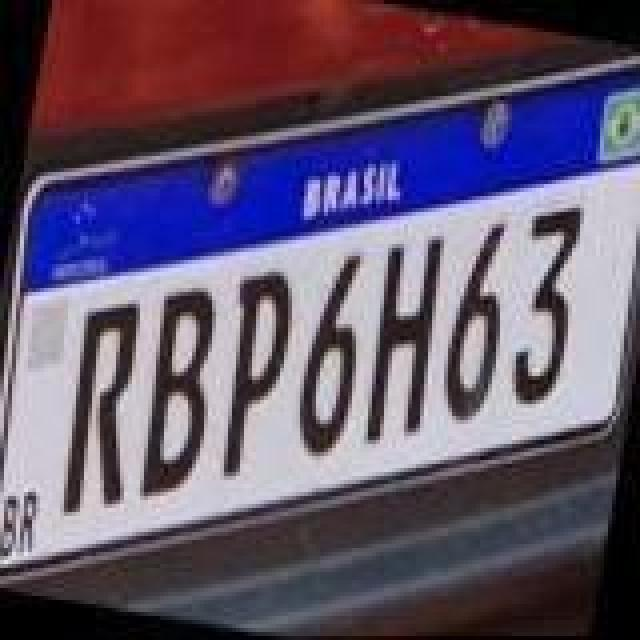3: (498, 196, 590, 412)
6: (290, 246, 382, 462), (430, 216, 522, 428)
B: (124, 280, 228, 508)
H: (352, 226, 456, 458)
P: (206, 262, 306, 486)
R: (50, 292, 158, 524)
